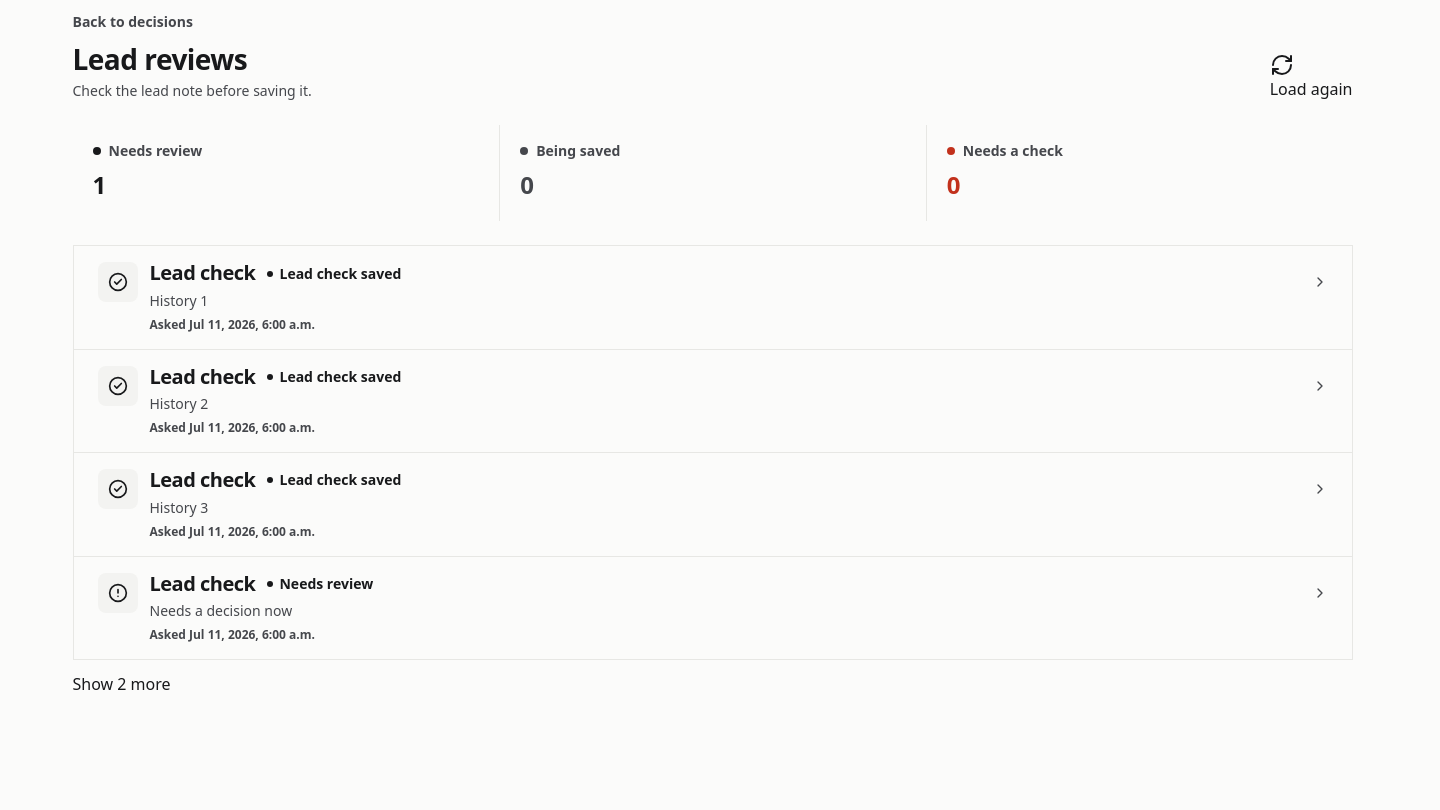
ApprovalInboxPage › keeps every live review visible while collapsing terminal history
Expected: the heading labelled "History 3" is shown, [74,453,1352,556]
Expected: the field labelled "History 4" is not shown
Click the button "Show 2 more".
click(122, 684)  # box [72,672,170,696]
(page scrolled)
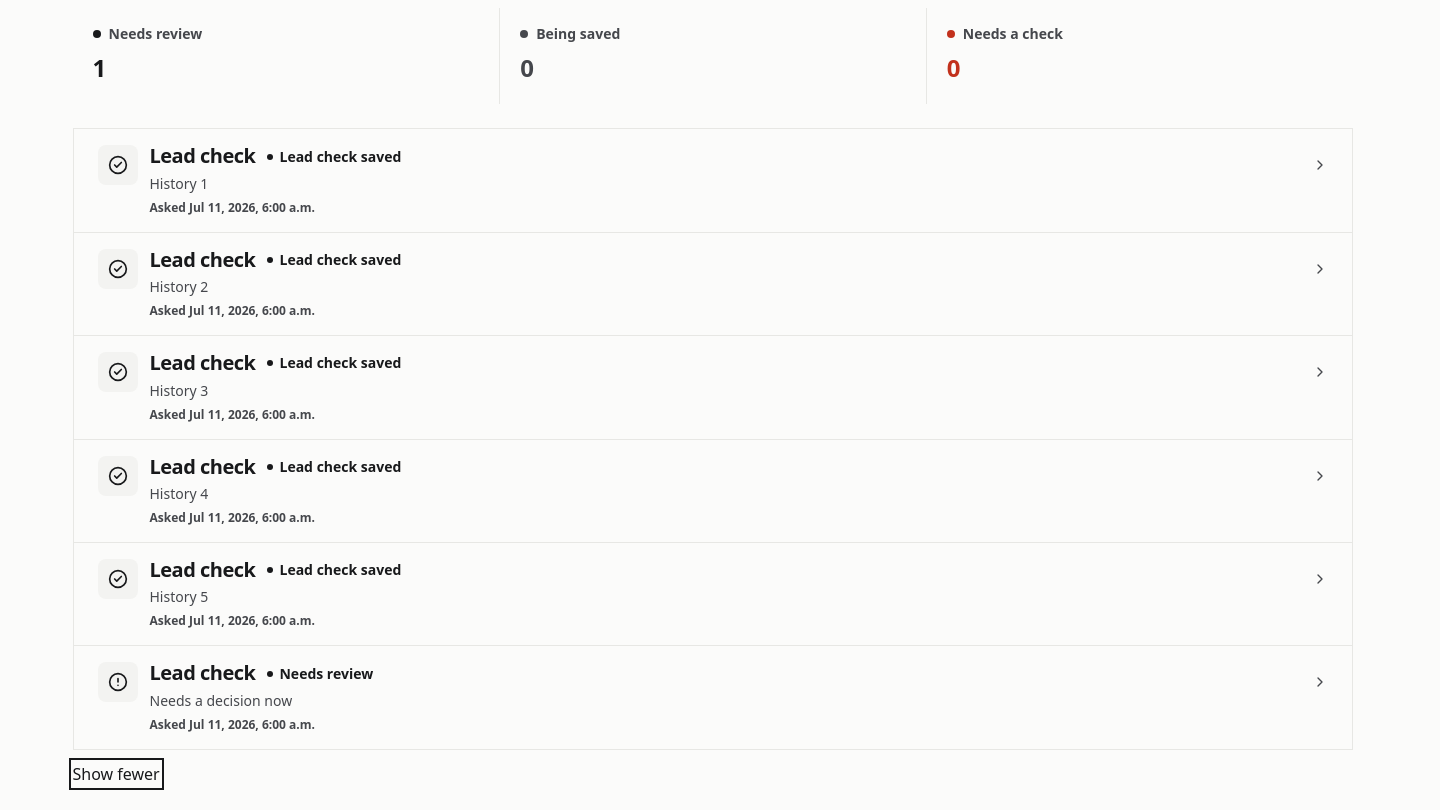
Expected: the heading labelled "History 5" is shown, [74,543,1352,645]
Expected: the button "Show fewer" is expanded, [72,762,160,786]
